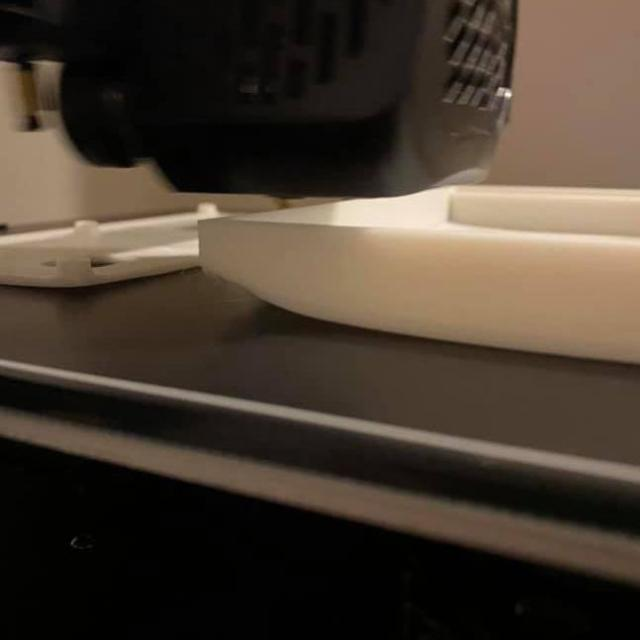Warping: (194, 260, 352, 328)
